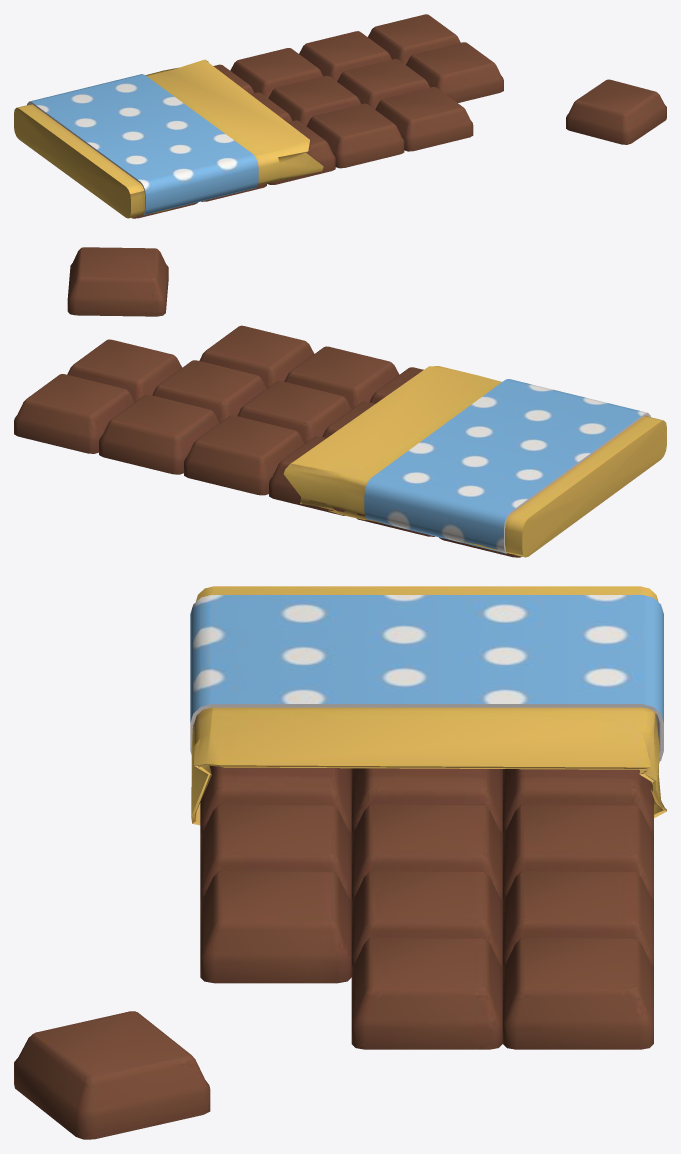
File: tableta_chocolate.glb
3 renders of one model, top to bottom at view 1: azimuth 30°, elevation 25°; view 2: azimuth 150°, elevation 25°; view 3: azimuth 270°, elevation 25°, orthographic. The views are drawn at different scales.
Parts seen in each view (by area): view 1: chocolate-bar_body; view 2: chocolate-bar_body; view 3: chocolate-bar_body.
Part boxes in pixels (x1,y1,x2,y2): chocolate-bar_body: [14, 14, 666, 218]; chocolate-bar_body: [14, 247, 666, 557]; chocolate-bar_body: [14, 586, 666, 1139].
Size of the model in its own units: 0.186 by 0.0116 by 0.1037.
1 material, 1 textured.
